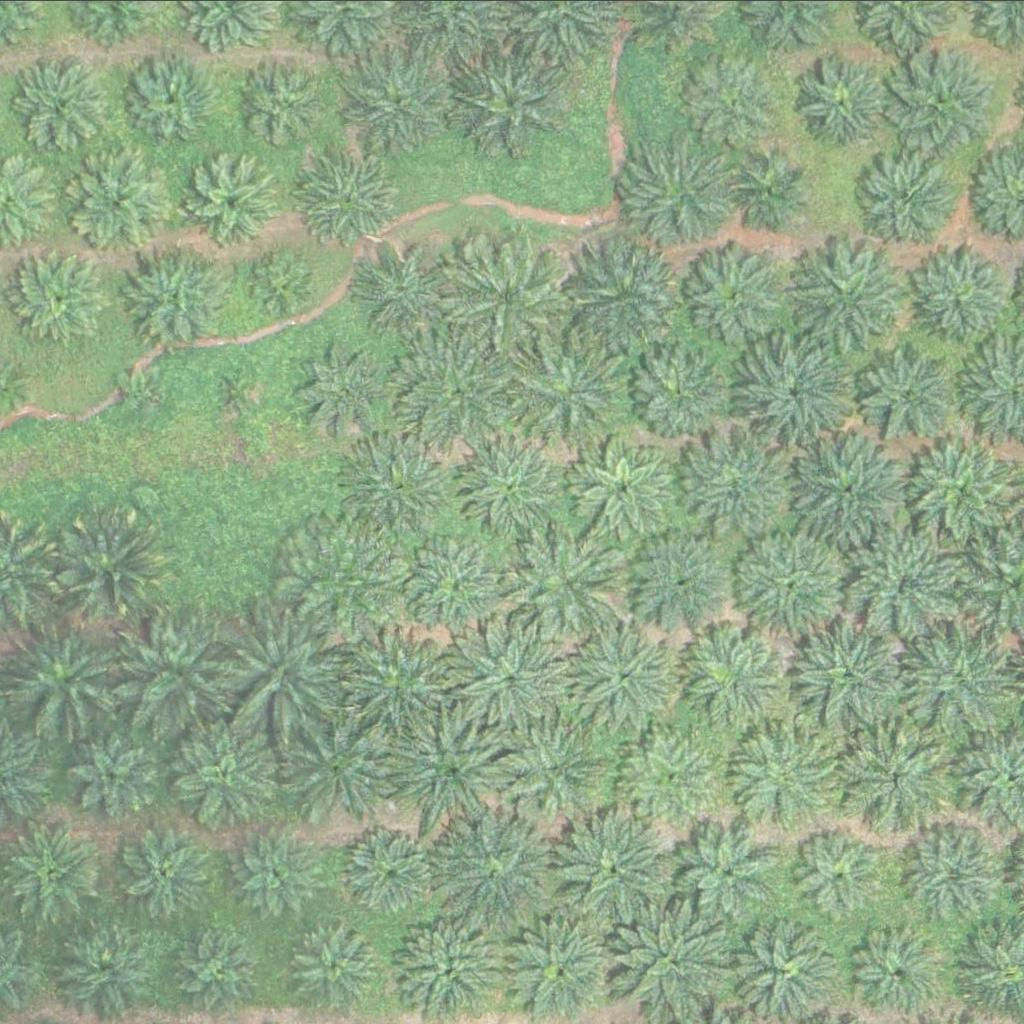Kelapa_Sawit: (287, 523, 401, 636), (119, 611, 233, 724), (226, 611, 340, 724), (450, 242, 564, 355), (624, 138, 738, 251), (884, 48, 998, 161), (441, 810, 554, 923), (559, 812, 672, 925), (731, 716, 844, 829), (840, 724, 953, 837), (341, 631, 454, 744), (403, 528, 516, 641), (510, 524, 623, 637), (624, 527, 737, 640), (678, 424, 791, 537), (788, 432, 901, 545), (909, 430, 1022, 543), (908, 619, 1021, 732), (3, 627, 117, 739), (335, 434, 449, 546), (450, 430, 564, 542), (402, 335, 516, 447), (510, 338, 624, 450), (563, 238, 677, 350), (678, 241, 792, 353), (47, 509, 160, 621), (290, 333, 403, 445), (170, 716, 283, 828), (284, 709, 397, 821), (614, 905, 727, 1017), (727, 911, 840, 1023), (399, 714, 512, 826), (501, 712, 614, 824), (460, 623, 573, 735), (571, 622, 684, 734), (795, 617, 908, 729), (738, 529, 851, 641), (850, 528, 963, 640), (731, 337, 844, 449), (796, 239, 909, 351), (455, 45, 568, 157), (71, 154, 172, 254), (16, 53, 117, 153), (352, 51, 453, 151), (179, 151, 280, 251), (297, 149, 398, 249), (4, 247, 105, 347), (128, 242, 229, 342), (111, 820, 212, 920), (56, 919, 157, 1019), (676, 824, 777, 924), (622, 728, 723, 828), (682, 628, 783, 728), (569, 438, 670, 538), (860, 343, 961, 443), (356, 243, 457, 343), (908, 246, 1009, 346), (3, 823, 103, 923), (905, 821, 1005, 921), (626, 342, 726, 442), (859, 153, 959, 253), (682, 51, 782, 151), (794, 54, 894, 154), (242, 59, 331, 147), (127, 53, 215, 141), (232, 830, 320, 918), (349, 825, 437, 913), (174, 928, 262, 1016), (291, 922, 380, 1009), (67, 731, 155, 818), (795, 828, 883, 915), (728, 155, 804, 230), (251, 252, 314, 315), (125, 372, 163, 409), (216, 376, 254, 413)
